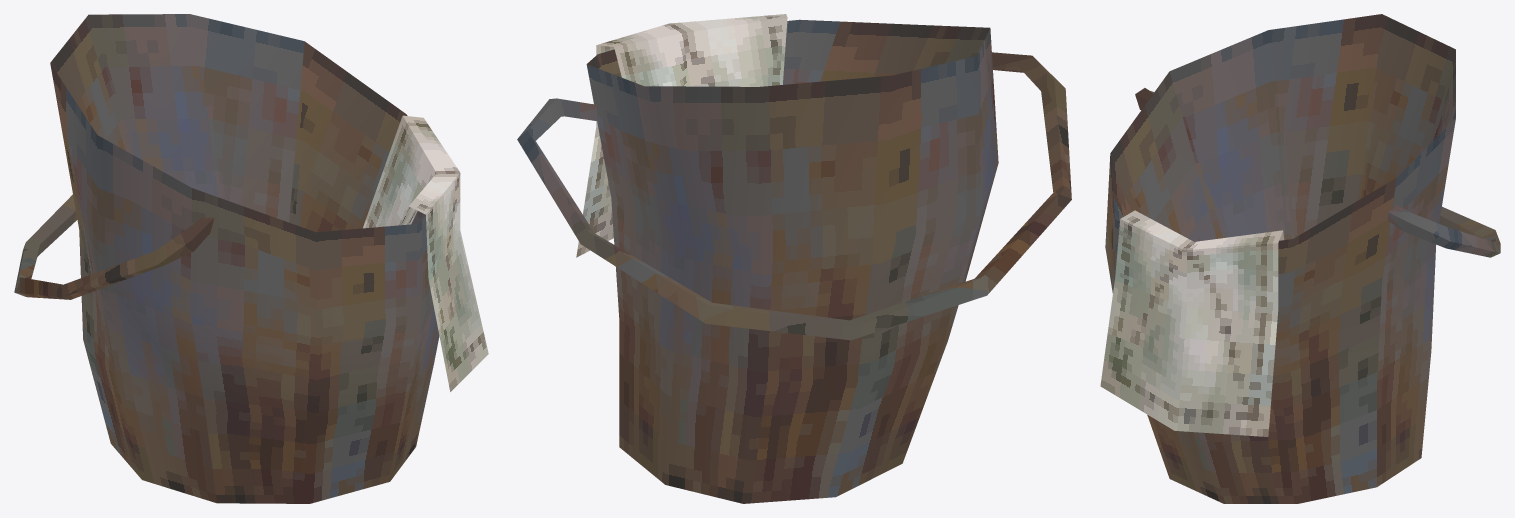
File: bake14-1.glb
The picture shows the model from 3 angles, left to right: view 1: azimuth 30°, elevation 25°; view 2: azimuth 150°, elevation 25°; view 3: azimuth 270°, elevation 25°; orthographic projection. The views are drawn at different scales.
Visible parts, largest first — view 1: bake14_1; view 2: bake14_1; view 3: bake14_1.
Boxes of the visible parts, <box> form: bake14_1: <box>14,14,488,503</box>; bake14_1: <box>517,14,1071,503</box>; bake14_1: <box>1100,14,1500,503</box>.
Bounding box in the file's own units: 90 × 81 × 81.
3 materials, 3 textured.
